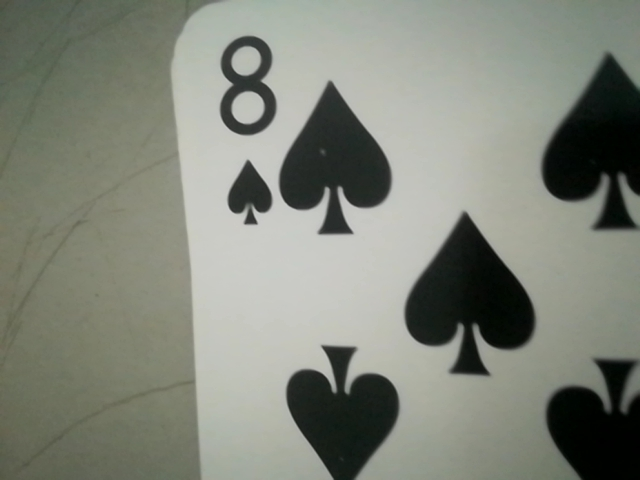ht 8: (200, 21, 298, 225)
